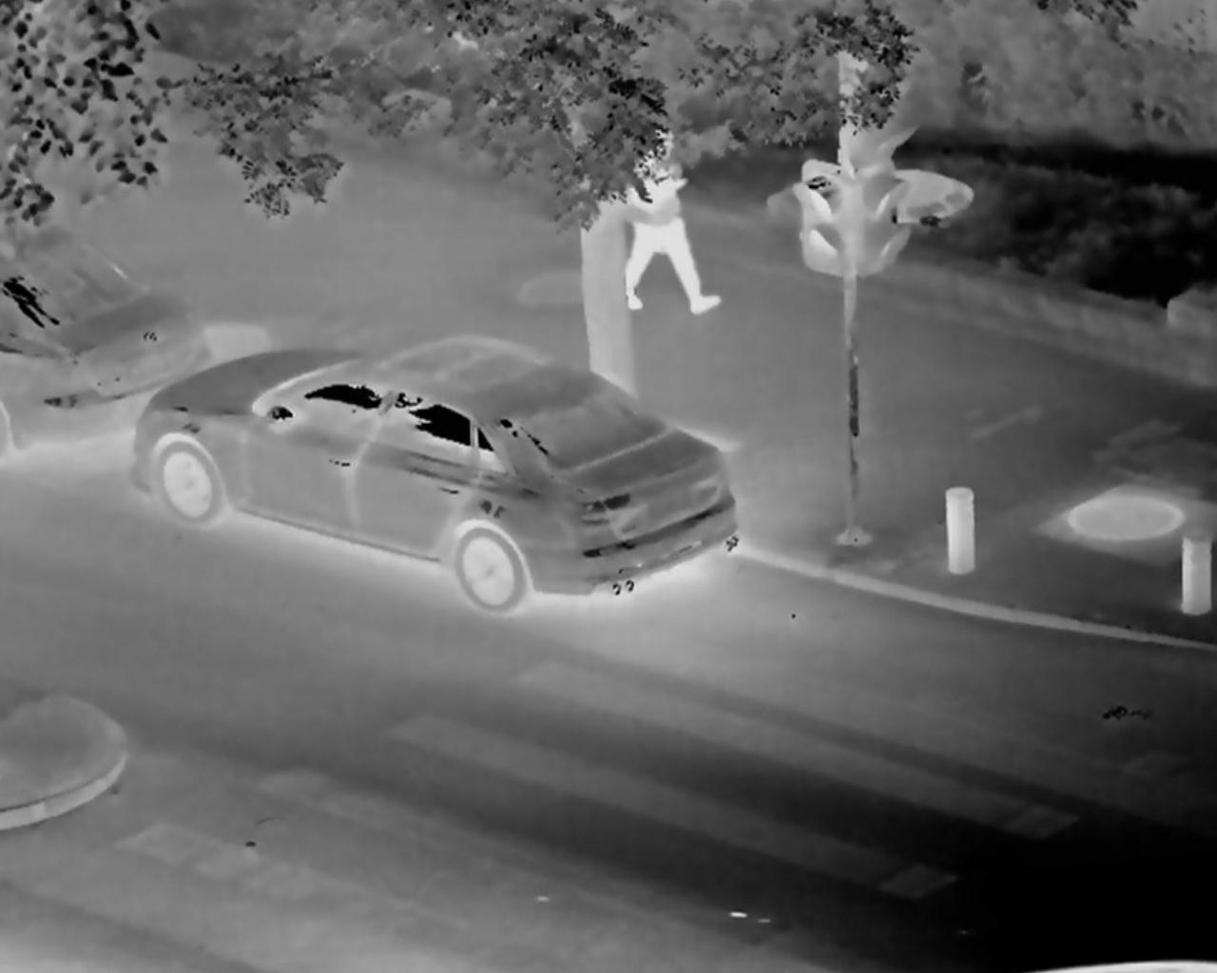person: (608, 113, 734, 319)
